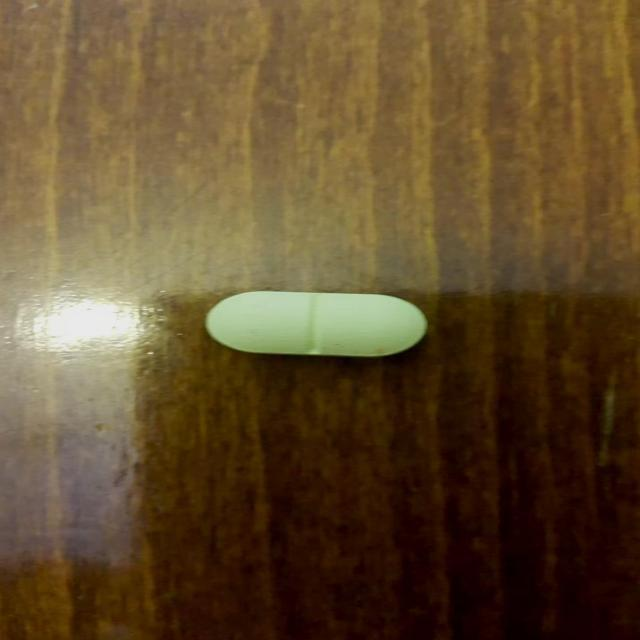pill: (197, 284, 440, 362)
